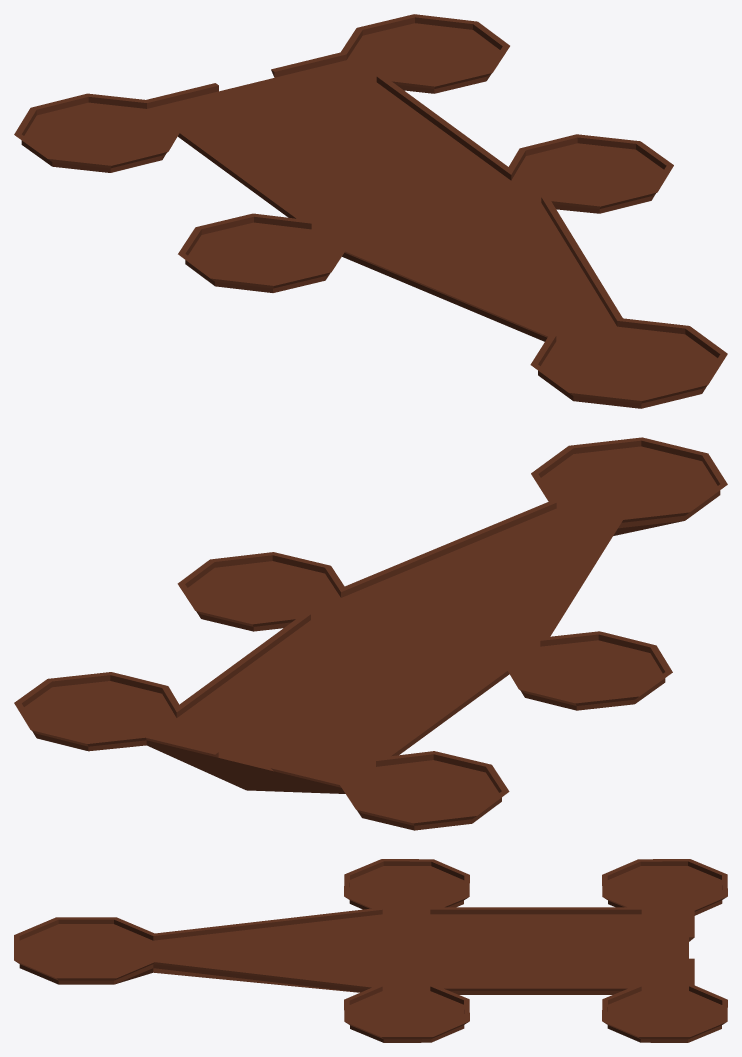
File: ship.fbx
3 views of the same model, one above another, from view 1: azimuth 30°, elevation 25°; view 2: azimuth 150°, elevation 25°; view 3: azimuth 270°, elevation 25° (orthographic). The views are drawn at different scales.
Parts seen in each view (by area): view 1: base, wall; view 2: base, wall; view 3: base, wall.
Boxes of the visible parts, box(x1,y1,x2,y2) form: base: box(21, 23, 717, 408); wall: box(14, 14, 727, 403); base: box(24, 446, 720, 830); wall: box(14, 437, 727, 825); base: box(19, 866, 722, 1042); wall: box(14, 859, 727, 1039).
Size of the model in its own units: 902 by 58.91 by 1529.
